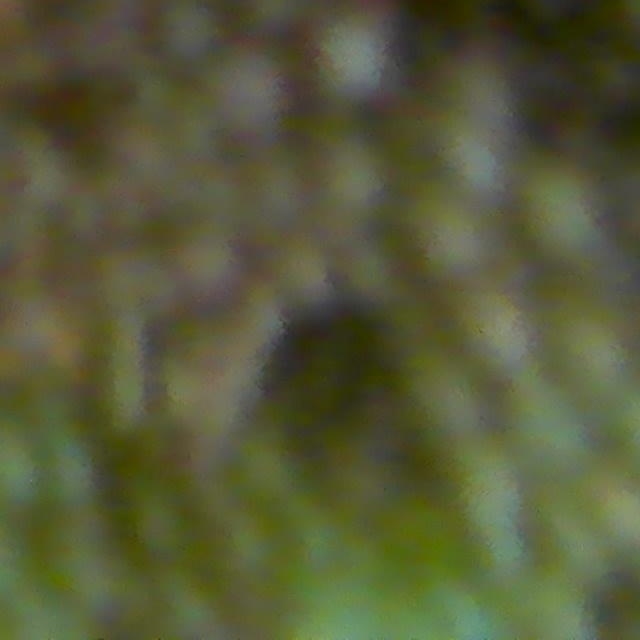SeaGrape: (518, 160, 615, 265), (309, 12, 404, 108), (505, 380, 595, 479), (553, 305, 640, 400), (209, 45, 296, 136), (454, 287, 543, 375), (401, 354, 488, 443), (412, 199, 501, 283), (317, 140, 395, 225), (245, 159, 309, 232), (271, 241, 335, 314), (174, 237, 243, 304), (0, 436, 52, 517)
